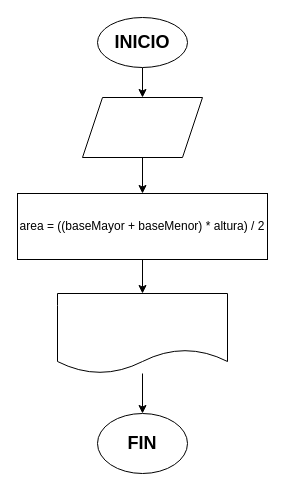
Some shapes in this 285 by 491 pixel diagram are drawn without their labels. Here are the shapes that lost their labels. From the top down, the box of each, then its label:
(82, 96, 202, 158): Leer baseMayor Leer baseMenor Leer altura
(56, 292, 228, 374): imprimir area
